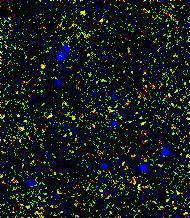star: (28, 53, 58, 83)
